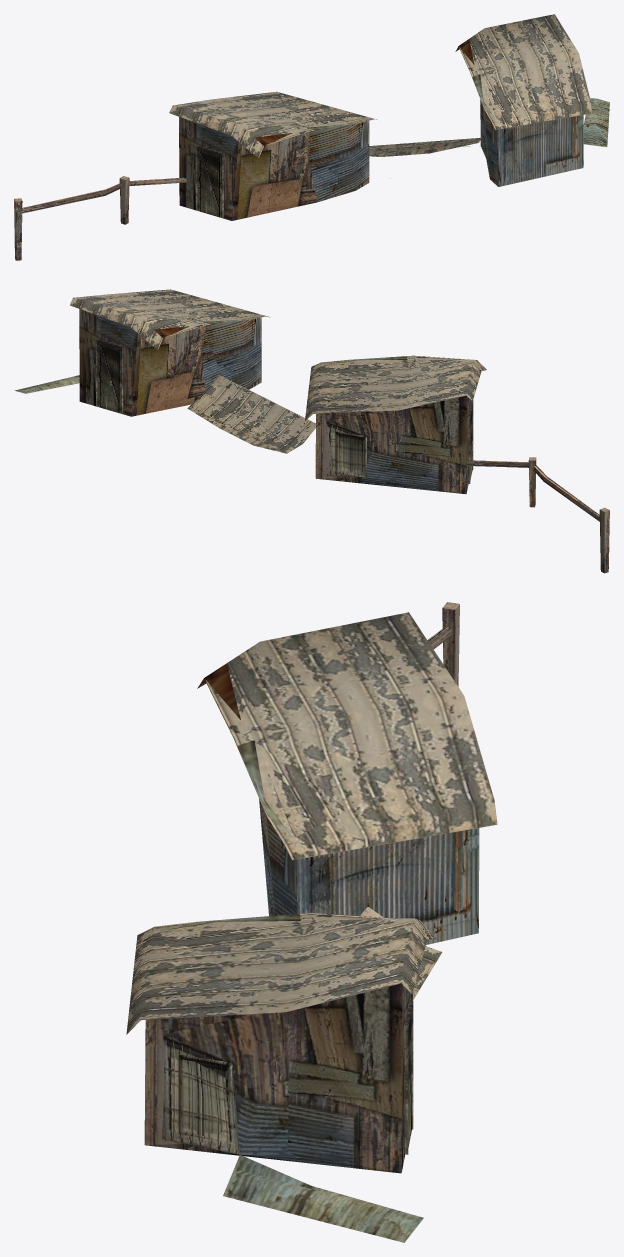
File: StadHut1.glb
3 renders of one model, top to bottom at view 1: azimuth 30°, elevation 25°; view 2: azimuth 150°, elevation 25°; view 3: azimuth 270°, elevation 25°, orthographic. The views are drawn at different scales.
Visible parts, largest first — view 1: 01 Mesh0, 01 Mesh0.001, 01 Mesh0.002, 01 Mesh0.003; view 2: 01 Mesh0, 01 Mesh0.002, 01 Mesh0.003, 01 Mesh0.001; view 3: 01 Mesh0, 01 Mesh0.001, 01 Mesh0.003, 01 Mesh0.002.
Part boxes in pixels (left/top/right/bottom): 01 Mesh0: left=14, top=14, right=609, bottom=260; 01 Mesh0.001: left=21, top=15, right=591, bottom=198; 01 Mesh0.002: left=193, top=76, right=604, bottom=220; 01 Mesh0.003: left=369, top=100, right=605, bottom=160; 01 Mesh0: left=15, top=289, right=609, bottom=573; 01 Mesh0.002: left=15, top=308, right=473, bottom=453; 01 Mesh0.003: left=21, top=309, right=396, bottom=476; 01 Mesh0.001: left=77, top=289, right=606, bottom=510; 01 Mesh0: left=126, top=602, right=497, bottom=1242; 01 Mesh0.001: left=127, top=603, right=496, bottom=1029; 01 Mesh0.003: left=162, top=907, right=413, bottom=1230; 01 Mesh0.002: left=159, top=743, right=442, bottom=1240.
Bounding box in the file's own units: 21.54 × 4.46 × 5.93.
Materials: 2 (1 with a texture image).
